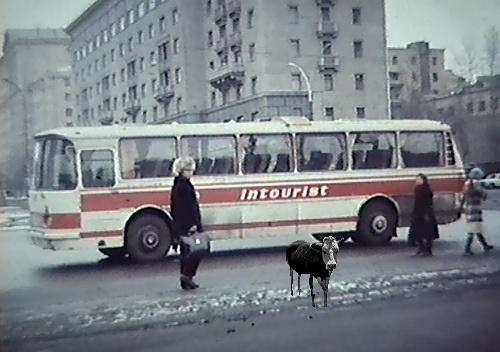tampered: (287, 237, 344, 307)
